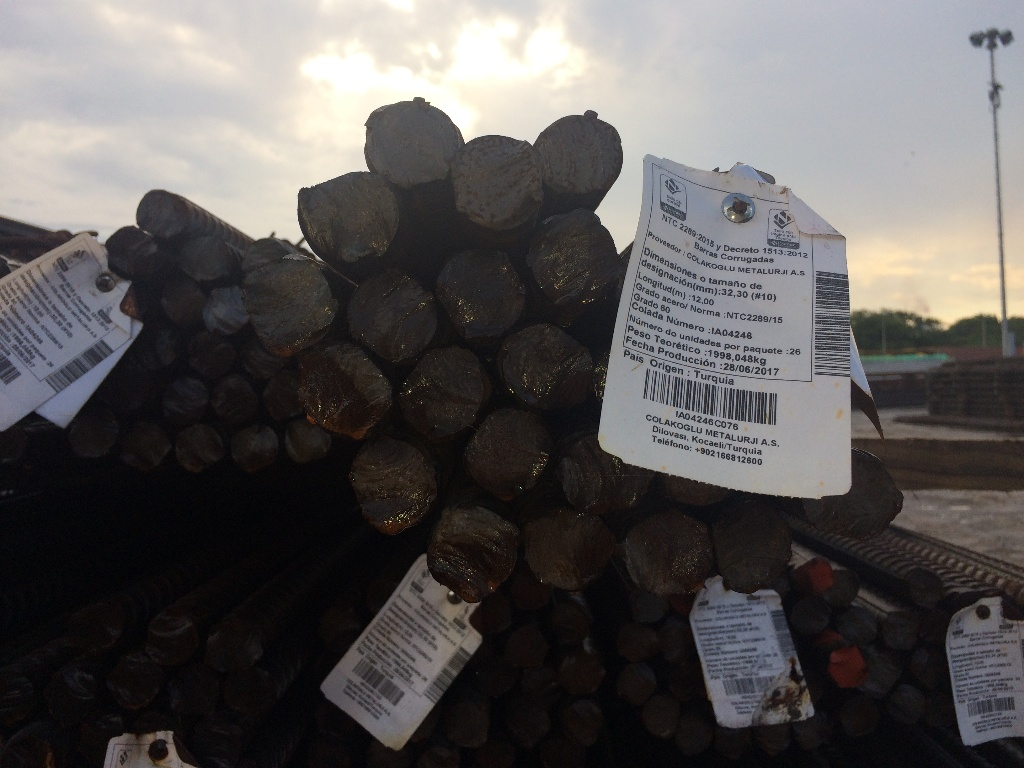dipstick: (802, 449, 902, 538), (297, 172, 399, 259), (244, 257, 334, 348), (529, 214, 617, 306), (429, 508, 516, 599), (464, 410, 551, 499), (348, 270, 435, 359), (367, 99, 456, 185), (352, 439, 436, 530), (452, 133, 536, 224), (497, 325, 590, 406), (437, 251, 524, 337), (710, 501, 791, 591), (399, 347, 484, 432), (626, 513, 712, 593), (559, 434, 649, 509), (524, 511, 611, 588), (538, 113, 622, 190), (308, 364, 387, 437), (45, 669, 95, 723), (144, 616, 197, 663), (221, 667, 275, 713), (67, 603, 122, 648), (121, 422, 171, 471), (107, 663, 160, 708), (206, 626, 260, 670), (203, 286, 254, 332), (159, 278, 204, 330), (77, 401, 118, 458), (176, 423, 222, 473), (110, 227, 156, 276), (178, 236, 232, 277), (231, 425, 278, 472), (185, 332, 234, 375), (504, 701, 550, 746), (213, 376, 257, 423), (265, 371, 309, 418), (168, 670, 216, 713), (285, 419, 330, 464), (138, 190, 184, 233), (505, 625, 547, 670), (558, 652, 604, 693), (562, 699, 600, 746), (138, 327, 180, 369), (164, 379, 206, 421), (546, 603, 589, 644), (449, 703, 490, 746), (516, 565, 551, 610), (615, 663, 654, 703), (837, 604, 876, 644), (828, 646, 866, 687), (644, 693, 679, 737), (839, 697, 879, 735), (677, 713, 714, 754), (907, 568, 944, 609), (823, 568, 860, 608), (789, 597, 831, 632), (617, 623, 657, 659), (794, 711, 833, 747), (882, 612, 920, 648), (794, 558, 832, 592), (890, 686, 926, 721), (754, 723, 790, 752)
